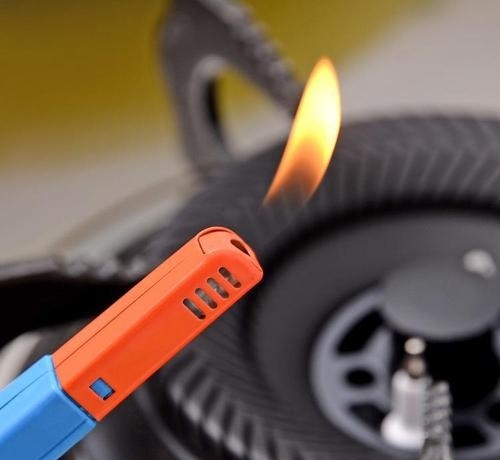fire: (264, 53, 345, 210)
